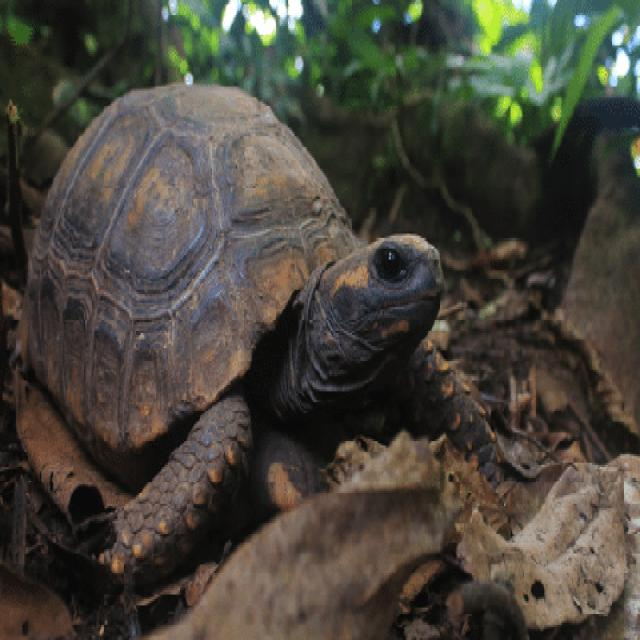tortoise: (41, 74, 288, 314), (284, 192, 489, 362), (112, 428, 284, 602), (422, 352, 530, 496)
